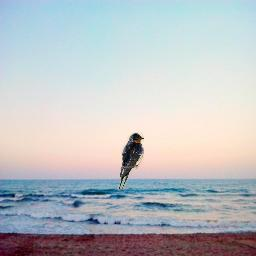Swallow: (117, 132, 144, 191)
